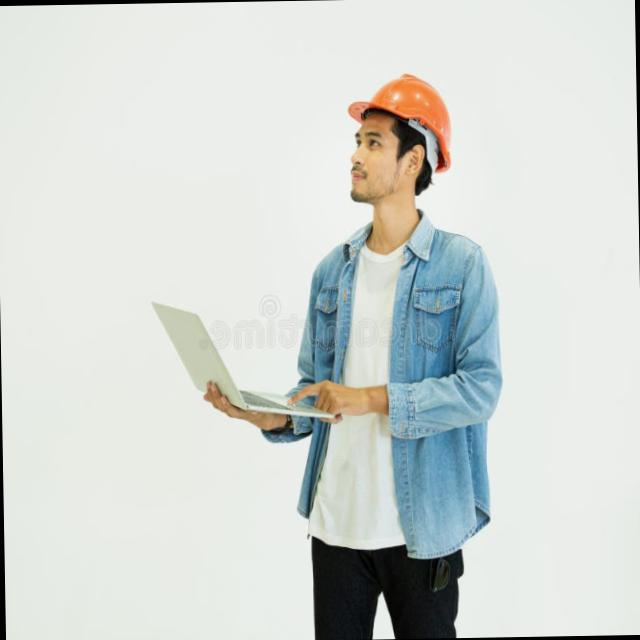helmet: (341, 68, 461, 182)
no-goggles: (344, 124, 414, 163)
no-vest: (292, 220, 496, 542)
